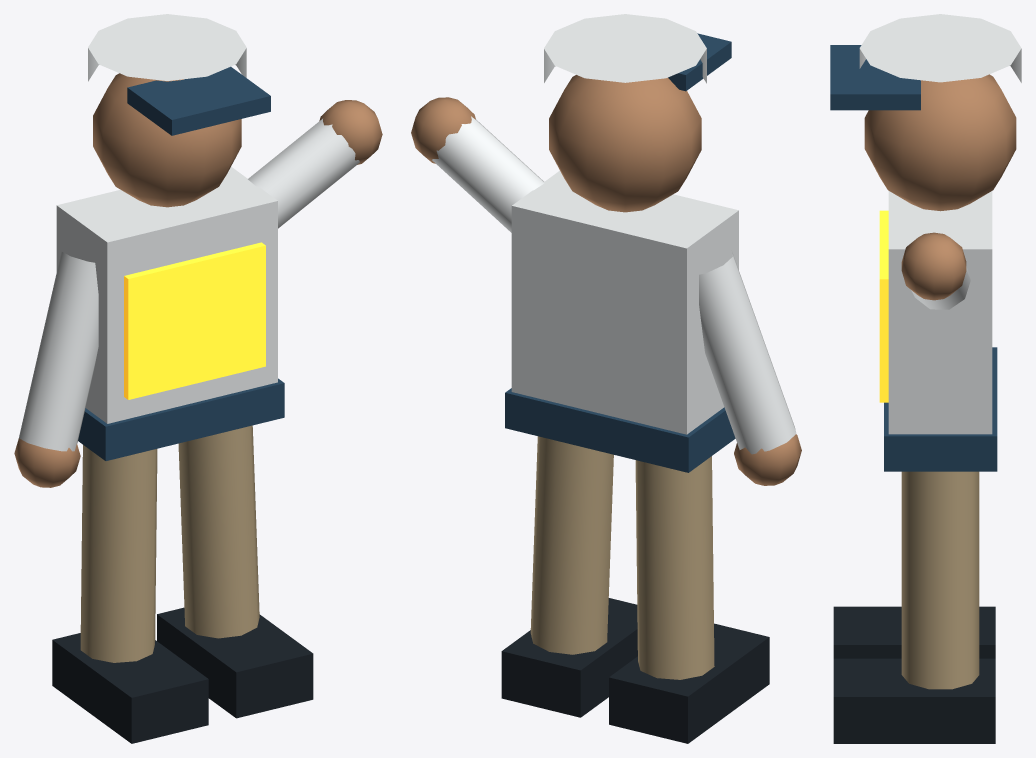
Rendered from traffic-police.glb.
3 views of the same model, side by side, from view 1: azimuth 30°, elevation 25°; view 2: azimuth 150°, elevation 25°; view 3: azimuth 270°, elevation 25° (orthographic). The views are drawn at different scales.
Visible parts, largest first — view 1: torso, reflective_vest, left_leg, right_leg, head, left_shoe, left_arm, right_shoe, cap, belt, cap_peak, right_arm (+2 smaller); view 2: torso, head, left_leg, right_leg, left_shoe, left_arm, cap, belt, right_shoe, right_arm, right_hand, left_hand (+1 smaller); view 3: torso, right_leg, head, right_shoe, cap, belt, left_shoe, cap_peak, right_hand, reflective_vest, right_arm.
Part boxes in pixels (x1,y1,x2,y2): torso: [56, 166, 277, 423]; reflective_vest: [124, 242, 265, 399]; left_leg: [80, 445, 157, 662]; right_leg: [178, 425, 259, 638]; head: [93, 73, 241, 207]; left_shoe: [52, 633, 208, 743]; left_arm: [19, 251, 98, 451]; right_shoe: [157, 607, 313, 718]; cap: [88, 14, 246, 81]; belt: [78, 378, 284, 460]; cap_peak: [127, 66, 270, 135]; right_arm: [248, 118, 359, 228]; torso: [511, 171, 738, 434]; head: [549, 75, 701, 212]; left_leg: [635, 456, 714, 679]; right_leg: [530, 436, 613, 654]; left_shoe: [609, 623, 769, 743]; left_arm: [699, 252, 796, 454]; cap: [544, 14, 706, 83]; belt: [505, 388, 735, 472]; right_shoe: [501, 598, 637, 717]; right_arm: [432, 116, 544, 232]; right_hand: [411, 97, 475, 163]; left_hand: [734, 434, 801, 485]; torso: [888, 191, 992, 434]; right_leg: [901, 471, 979, 689]; head: [864, 74, 1016, 211]; right_shoe: [833, 658, 995, 743]; cap: [859, 14, 1021, 82]; belt: [884, 347, 997, 471]; left_shoe: [833, 606, 995, 658]; cap_peak: [830, 45, 920, 110]; right_hand: [901, 232, 966, 300]; reflective_vest: [879, 210, 888, 402]; right_arm: [911, 266, 970, 309].
Bounding box in the file's own units: 1.33 × 2.21 × 0.59.
